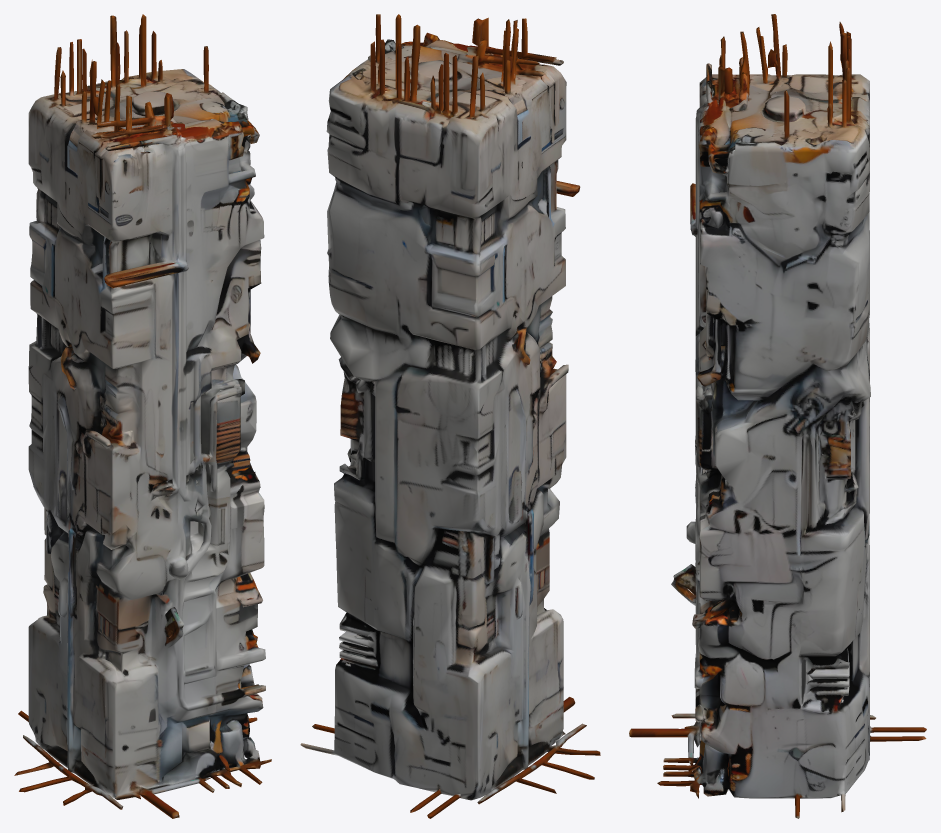
The model's file is Pillar.obj.
The picture shows the model from 3 angles, left to right: view 1: azimuth 30°, elevation 25°; view 2: azimuth 150°, elevation 25°; view 3: azimuth 270°, elevation 25°; orthographic projection. The views are drawn at different scales.
Visible parts, largest first — view 1: tripo_node_baf701ba-9084-45ad-bb7b-165c7d86a24f; view 2: tripo_node_baf701ba-9084-45ad-bb7b-165c7d86a24f; view 3: tripo_node_baf701ba-9084-45ad-bb7b-165c7d86a24f.
Part boxes in pixels (x1=…): tripo_node_baf701ba-9084-45ad-bb7b-165c7d86a24f: x1=14, y1=14, x2=271, y2=818; tripo_node_baf701ba-9084-45ad-bb7b-165c7d86a24f: x1=300, y1=14, x2=600, y2=818; tripo_node_baf701ba-9084-45ad-bb7b-165c7d86a24f: x1=629, y1=14, x2=926, y2=818.
Bounding box in the file's own units: 0.37 × 1 × 0.3708.
1 material, 1 textured.
